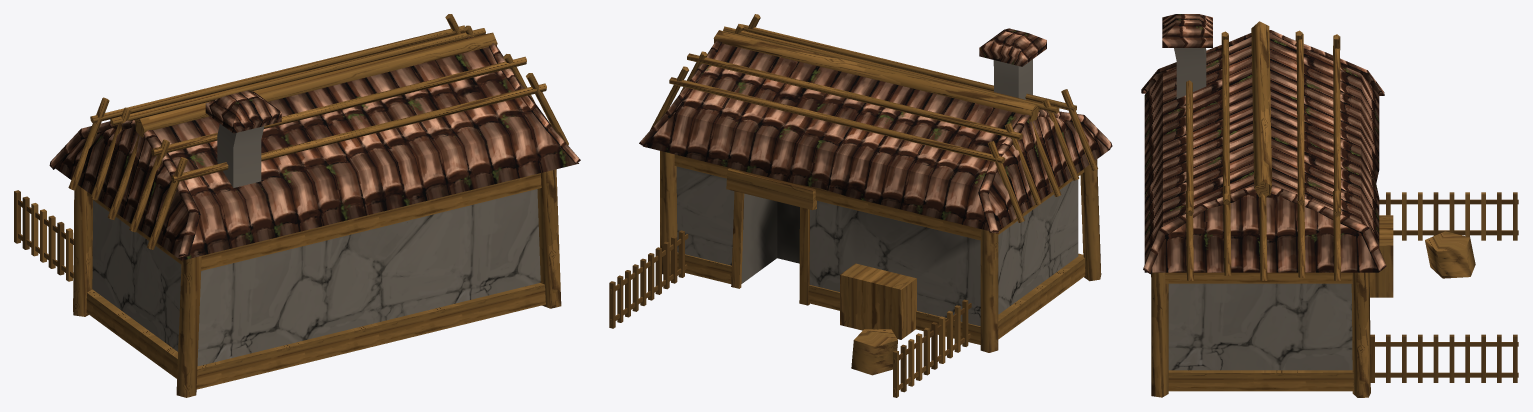
Rendered from littleHouse_geo(1).fbx.
The picture shows the model from 3 angles, left to right: view 1: azimuth 30°, elevation 25°; view 2: azimuth 150°, elevation 25°; view 3: azimuth 270°, elevation 25°; orthographic projection. The views are drawn at different scales.
Parts seen in each view (by area): view 1: tower_geo1_DUP7; view 2: tower_geo1_DUP7; view 3: tower_geo1_DUP7.
Boxes of the visible parts, <box> form: tower_geo1_DUP7: <box>14,14,580,397</box>; tower_geo1_DUP7: <box>609,14,1112,397</box>; tower_geo1_DUP7: <box>1141,14,1518,397</box>.
Size of the model in its own units: 10.38 by 6.31 by 8.78.
